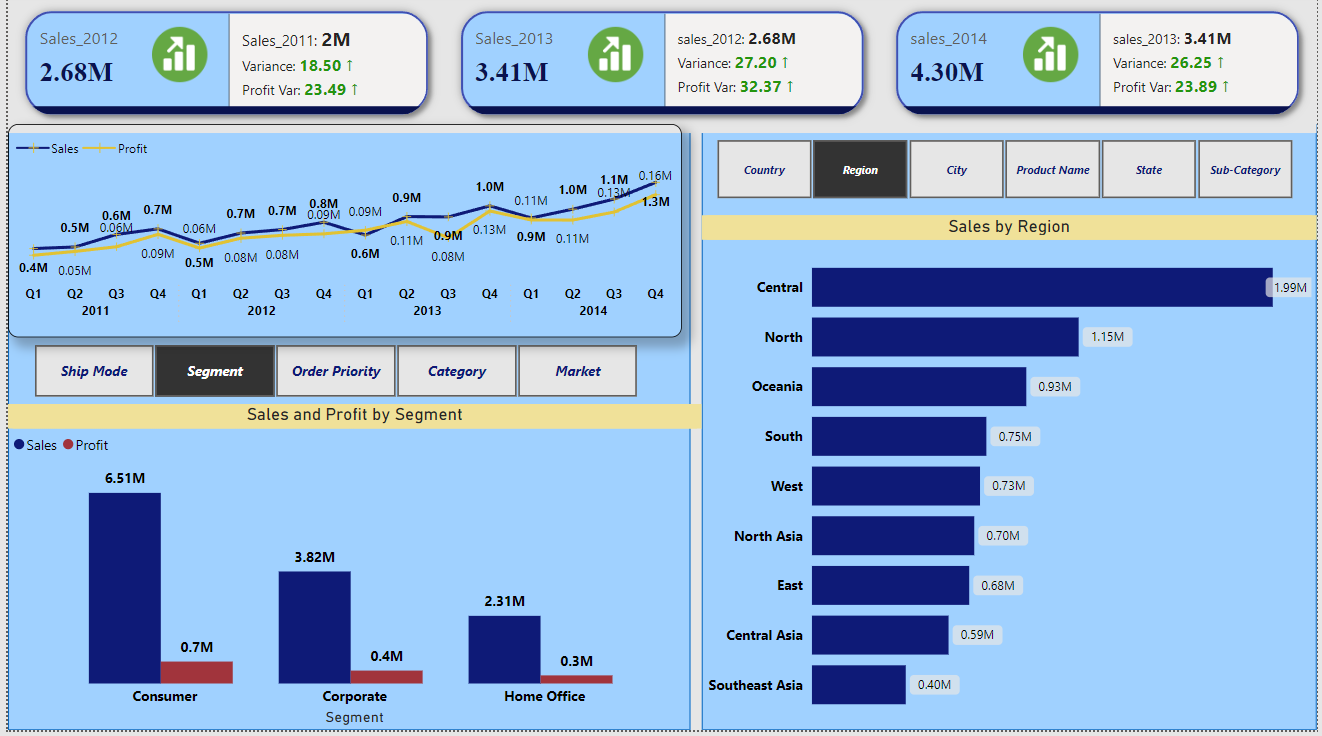

What the dashboard file says about the page in this screenshot:
{"tool":"powerbi","page":{"name":"Page 2","canvas":[1280,720],"ordinal":1},"visuals":[{"type":"cardVisual","fields":{"Data":["calculations.sales_2012","calculations.sales_2013","calculations.sales_2014"]},"box":[0,0,1280.3,135.7],"z":0},{"type":"slicer","fields":{"Values":["Parameter_1.Parameter_1"]},"box":[0,336.3,639.5,64.8],"z":1000},{"type":"barChart","fields":{"Category":["Global-Superstore.Region"],"Y":["calculations.TotalSale"]},"box":[678.7,216.4,601.6,503.8],"z":2000},{"type":"slicer","fields":{"Values":["Parameter_2.Parameter_2"]},"box":[667.7,135.7,612.6,70.9],"z":3000},{"type":"clusteredColumnChart","fields":{"Category":["Global-Superstore.Market"],"Y":["calculations.TotalSale","calculations.total_profit"]},"box":[0,401.1,678.7,319.2],"z":4000},{"type":"lineChart","fields":{"Category":["Global-Superstore.Year","Global-Superstore.Quarter"],"Y":["calculations.TotalSale"],"Y2":["calculations.total_profit"]},"box":[0,127.2,659.1,209.1],"z":5000}]}

Visuals, with their boxes in screenshot pixels (x1, y1, x2, y2), scaled from the page's 1280x720 canvas onto the 1322x736 screenshot:
cardVisual - calculations.sales_2012 x calculations.sales_2013: [0, 0, 1321, 139]
slicer - Parameter_1.Parameter_1: [0, 344, 660, 410]
barChart - Global-Superstore.Region x calculations.TotalSale: [701, 221, 1321, 735]
slicer - Parameter_2.Parameter_2: [690, 139, 1321, 211]
clusteredColumnChart - Global-Superstore.Market x calculations.TotalSale: [0, 410, 701, 735]
lineChart - Global-Superstore.Year x Global-Superstore.Quarter: [0, 130, 681, 344]
